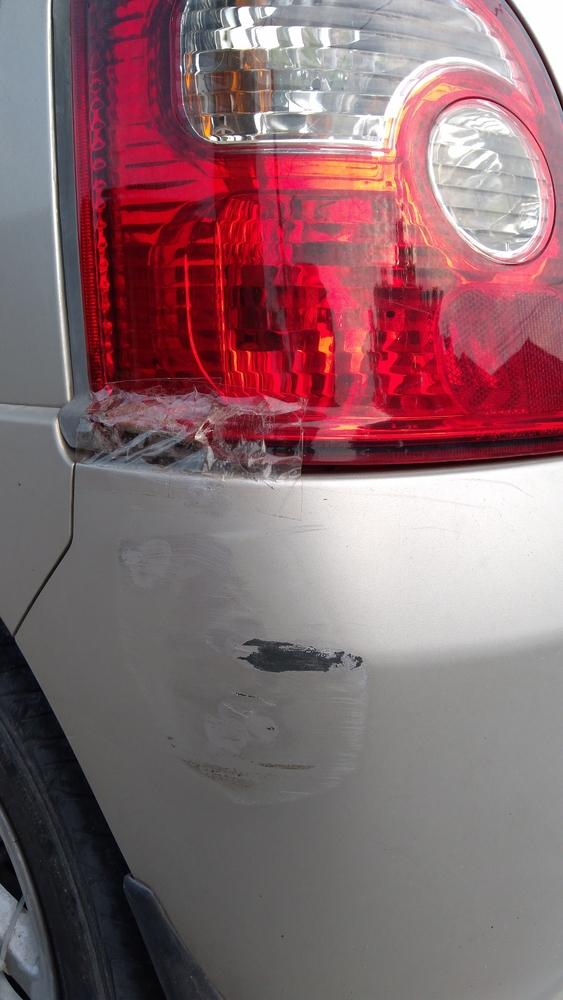scratch: (114, 491, 378, 813)
